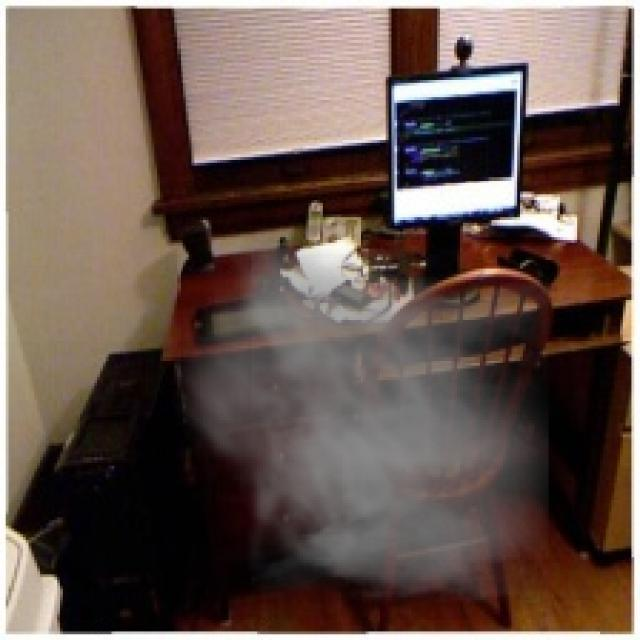Smoke: (166, 243, 548, 603)
